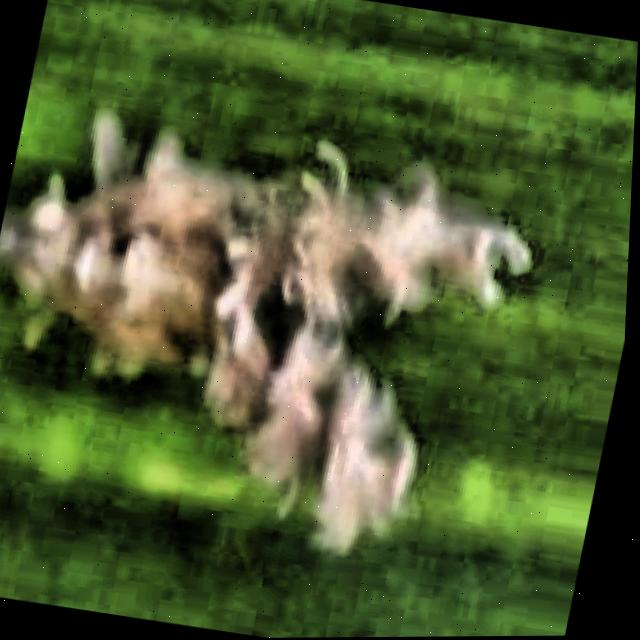Pyrilla-perpusilla: (0, 103, 562, 575)
